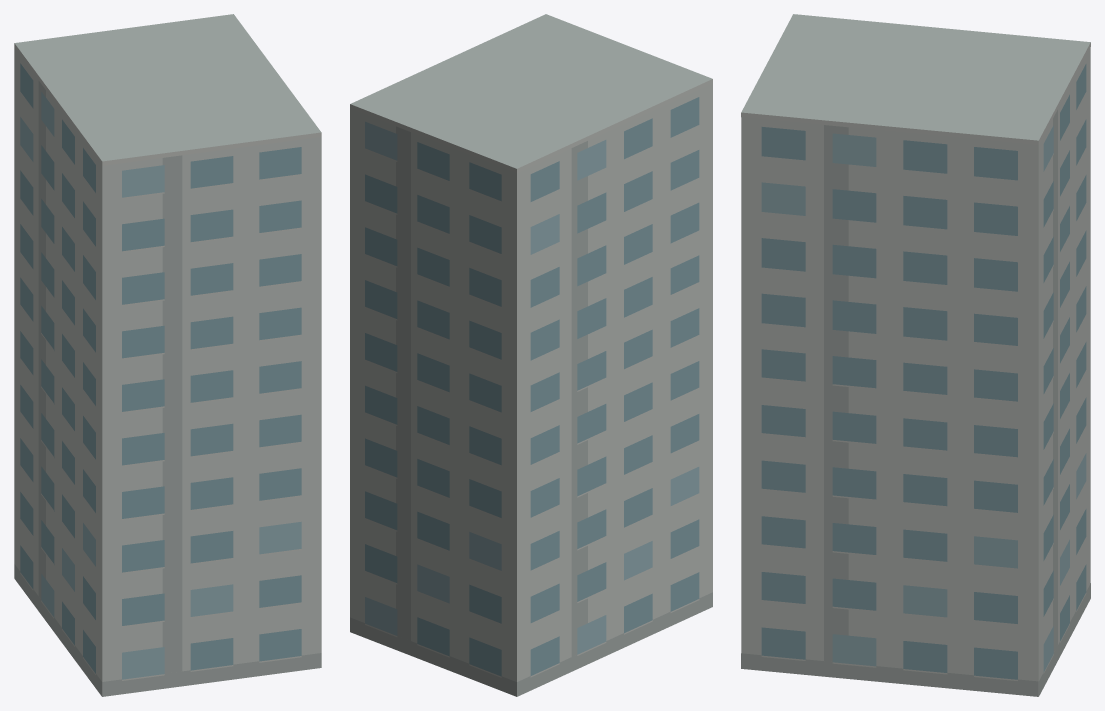
The model's file is residential-45e122e5-07c0-408c-9a06-366725a21faf.glb.
3 renders of one model, left to right at view 1: azimuth 30°, elevation 25°; view 2: azimuth 150°, elevation 25°; view 3: azimuth 270°, elevation 25°, orthographic. The views are drawn at different scales.
Visible parts, largest first — view 1: residential-45e122e5-07c0-408c-9a06-366725a21faf.tmp; view 2: residential-45e122e5-07c0-408c-9a06-366725a21faf.tmp; view 3: residential-45e122e5-07c0-408c-9a06-366725a21faf.tmp.
Boxes of the visible parts, x1=… form: residential-45e122e5-07c0-408c-9a06-366725a21faf.tmp: x1=14, y1=14, x2=321, y2=696; residential-45e122e5-07c0-408c-9a06-366725a21faf.tmp: x1=350, y1=14, x2=712, y2=696; residential-45e122e5-07c0-408c-9a06-366725a21faf.tmp: x1=741, y1=14, x2=1090, y2=696.
Bounding box in the file's own units: 14.16 × 29 × 16.53.
